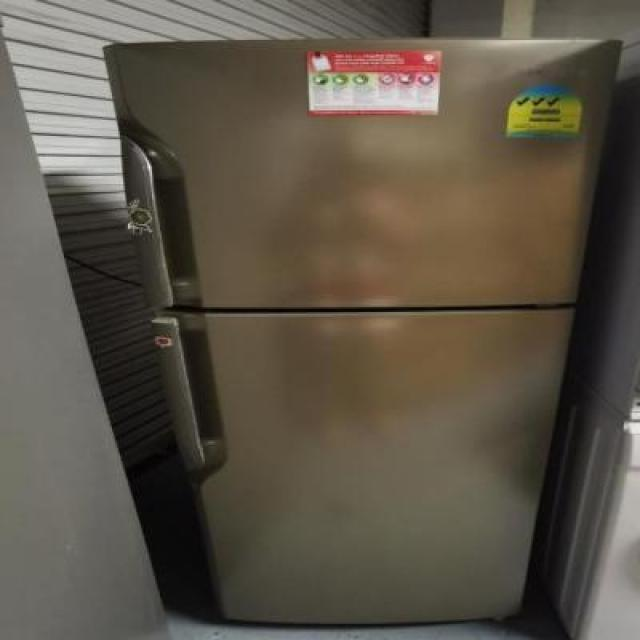refrigerator: (103, 38, 625, 624)
